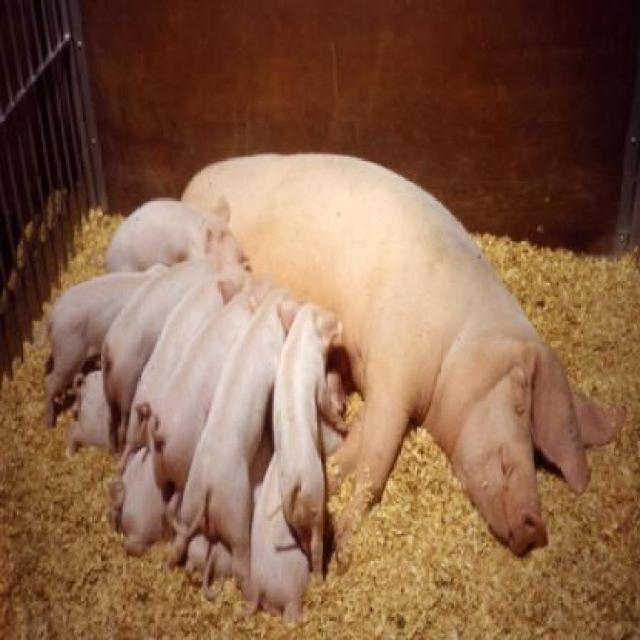Boar: (33, 154, 630, 626)
